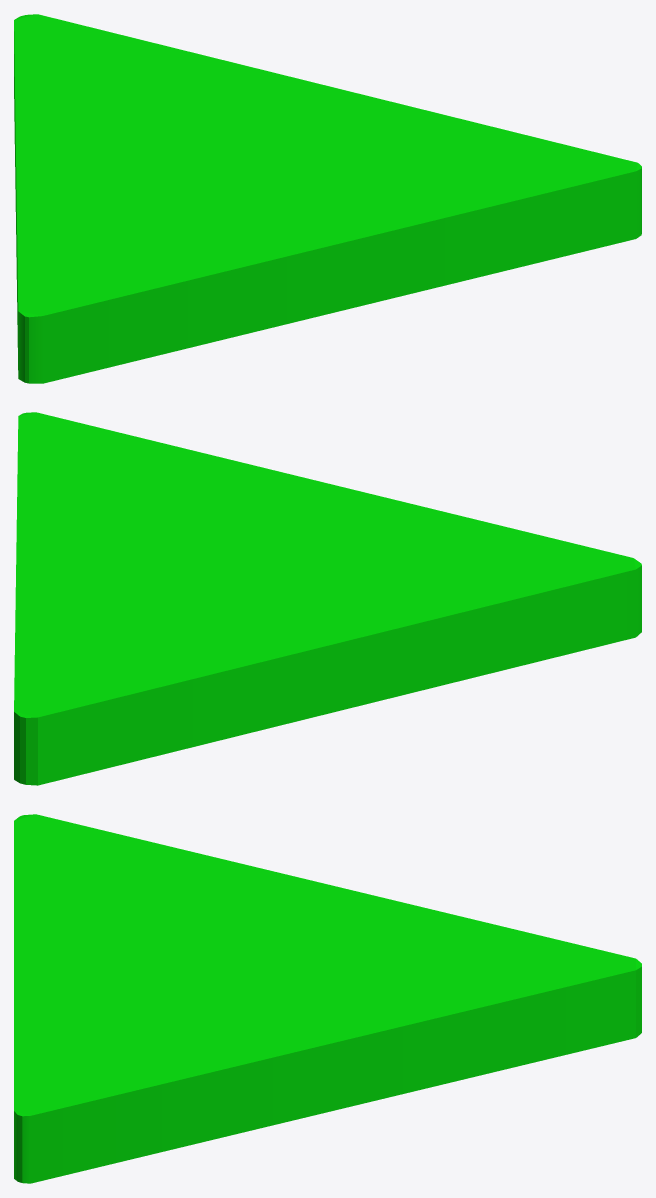
File: Arrow.fbx
3 renders of one model, top to bottom at view 1: azimuth 30°, elevation 25°; view 2: azimuth 150°, elevation 25°; view 3: azimuth 270°, elevation 25°, orthographic.
Parts seen in each view (by area): view 1: Cube; view 2: Cube; view 3: Cube.
Boxes of the visible parts, x1,y1,x2,y2 form: Cube: (14, 14, 641, 383); Cube: (14, 412, 641, 785); Cube: (14, 814, 641, 1183).
Size of the model in its own units: 47.3 by 4.96 by 41.63.
